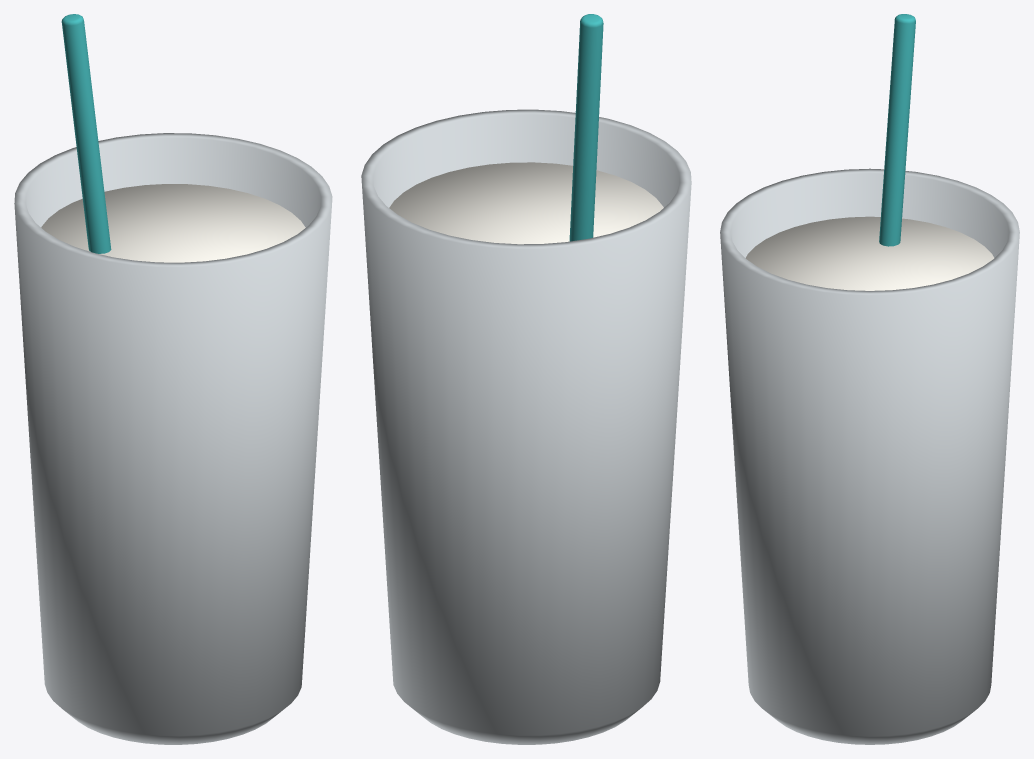
The model's file is dish_batida.glb.
3 renders of one model, left to right at view 1: azimuth 30°, elevation 25°; view 2: azimuth 150°, elevation 25°; view 3: azimuth 270°, elevation 25°, orthographic. The views are drawn at different scales.
Parts seen in each view (by area): view 1: dish_batida; view 2: dish_batida; view 3: dish_batida.
Part boxes in pixels (<box>): dish_batida: <box>14,14,332,744</box>; dish_batida: <box>361,14,691,744</box>; dish_batida: <box>720,14,1019,744</box>.
Bounding box in the file's own units: 0.084 × 0.2002 × 0.084.
